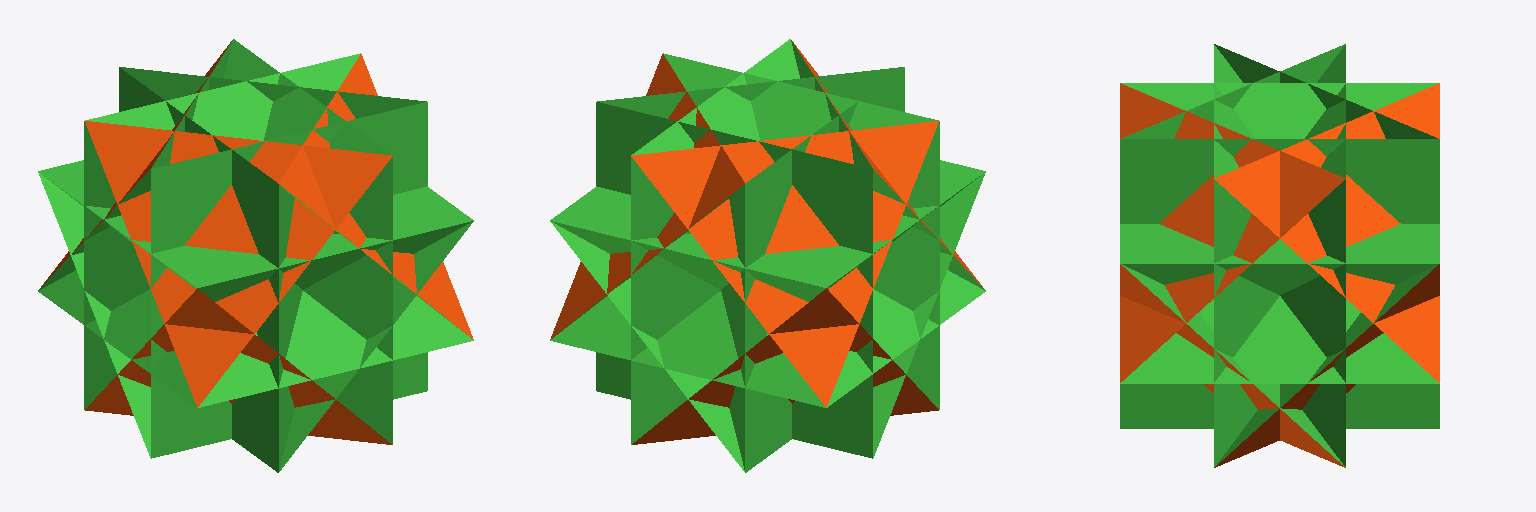
The model's file is UniformGreatRhombicuboctahedron.obj.
3 views of the same model, side by side, from view 1: azimuth 30°, elevation 25°; view 2: azimuth 150°, elevation 25°; view 3: azimuth 270°, elevation 25° (orthographic).
Bounding box in the file's own units: 1 × 1 × 1.